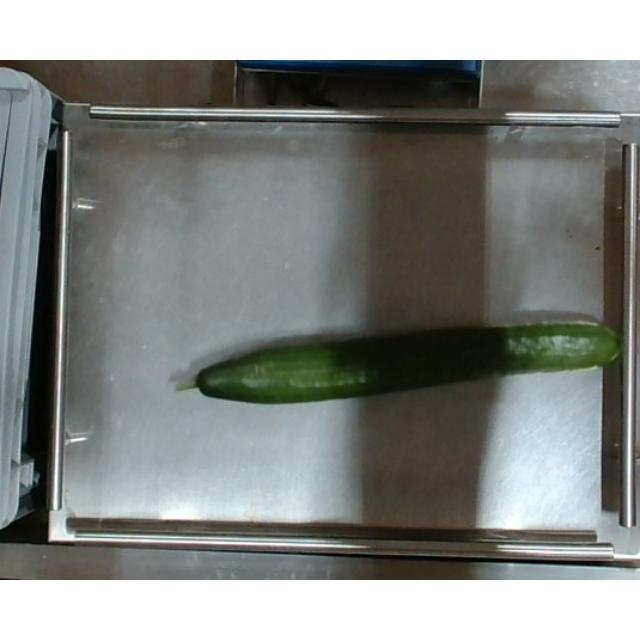cucumber: (170, 317, 640, 409)
